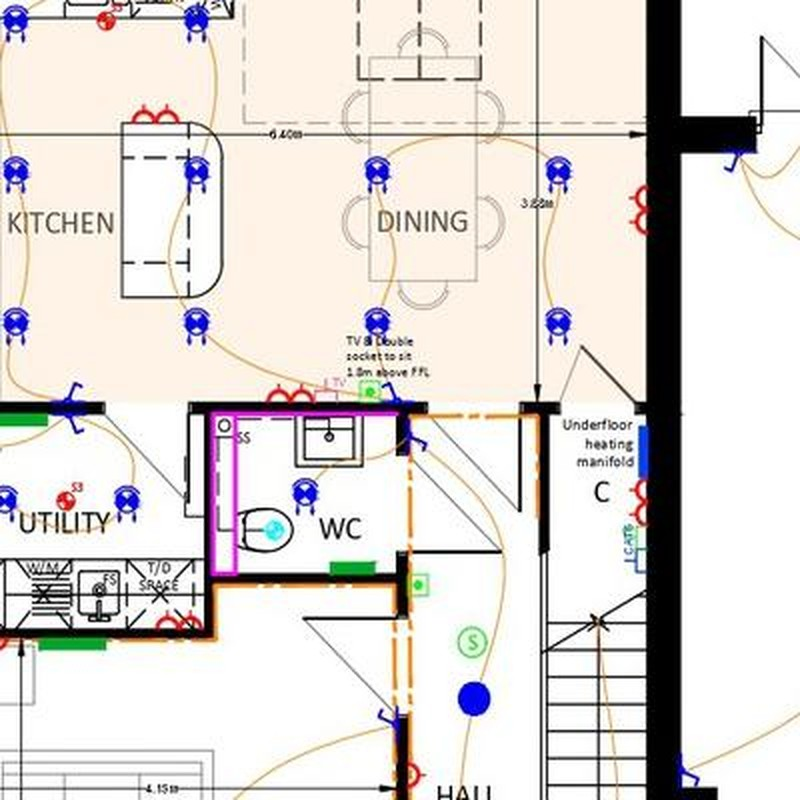Cat 6 Data Socket: (619, 528, 646, 575)
Ceiling Mounted Continuous Extract FanWith Boost Mode Activated By Light Switch: (265, 521, 284, 541)
Ceiling Mounted Continuous Extract FanWith Local Boost Switch: (55, 481, 84, 511), (97, 3, 122, 31)
Co-Ax TV Socket: (312, 378, 348, 402)
Double Socket: (132, 103, 180, 123), (155, 610, 203, 629), (266, 383, 314, 402), (629, 186, 647, 235), (629, 480, 647, 526)
Light Switch: (722, 151, 745, 173), (62, 415, 86, 435), (381, 382, 404, 402), (62, 382, 85, 402), (377, 707, 397, 729), (680, 765, 701, 785), (410, 431, 428, 453)
Low Energy Downlighter: (545, 156, 572, 195), (3, 307, 29, 347), (183, 308, 210, 346), (364, 157, 391, 194), (3, 156, 29, 194), (184, 6, 210, 43), (546, 308, 572, 345), (114, 486, 140, 523), (3, 5, 28, 43), (364, 308, 390, 344), (185, 157, 210, 194), (293, 479, 318, 516), (1, 486, 17, 523)
Low Energy Pendant Light: (459, 682, 490, 716)
Mains Wired Smoke Detector: (457, 626, 488, 657)
Programmable Room Thermostat: (410, 573, 429, 597), (360, 381, 381, 401)
Radiator: (39, 638, 106, 650), (330, 562, 376, 574), (1, 415, 47, 425)
Single Socket: (405, 762, 426, 788)
Telephone Socket: (625, 525, 647, 547)
Twin LED Strip Light: (639, 426, 647, 479)
